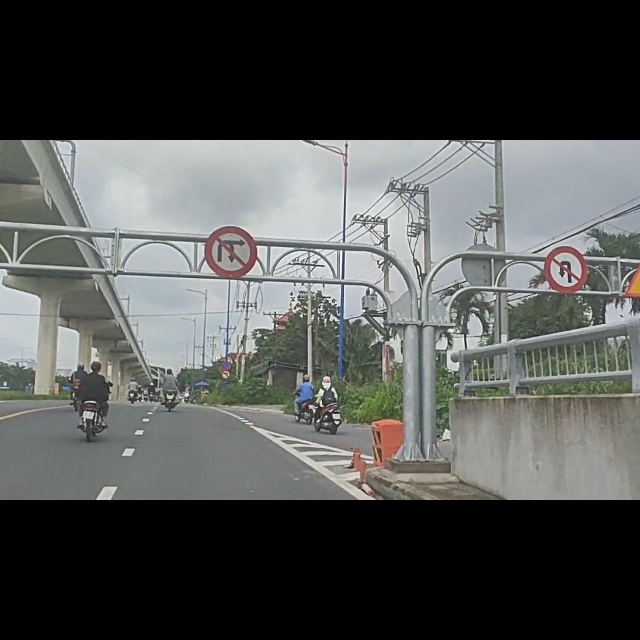bien_cam: (204, 152, 257, 248), (543, 190, 588, 273), (221, 392, 231, 408), (221, 410, 231, 425)
